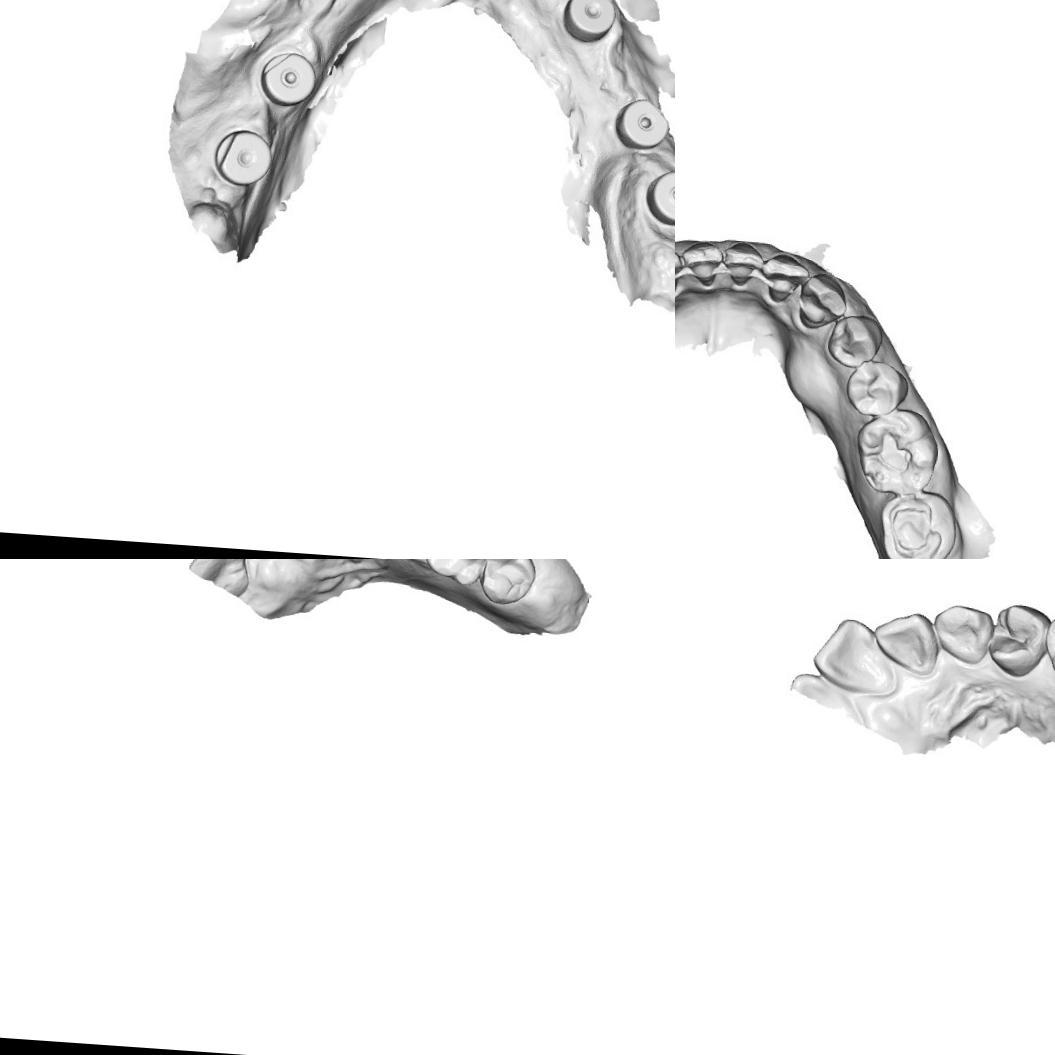canine: (933, 599, 996, 667), (796, 270, 849, 332)
implant: (252, 39, 327, 117), (206, 123, 277, 192), (609, 92, 674, 155), (563, 0, 622, 50), (639, 163, 675, 235)
incisor: (812, 618, 894, 692), (874, 606, 946, 671), (758, 250, 810, 304), (186, 559, 251, 596), (679, 239, 724, 288), (720, 240, 765, 287)
molar: (852, 404, 941, 497), (876, 486, 959, 559), (476, 559, 539, 608), (419, 559, 492, 588)
premolar: (985, 600, 1052, 682), (844, 358, 911, 418), (825, 312, 884, 370), (1042, 608, 1055, 682)
